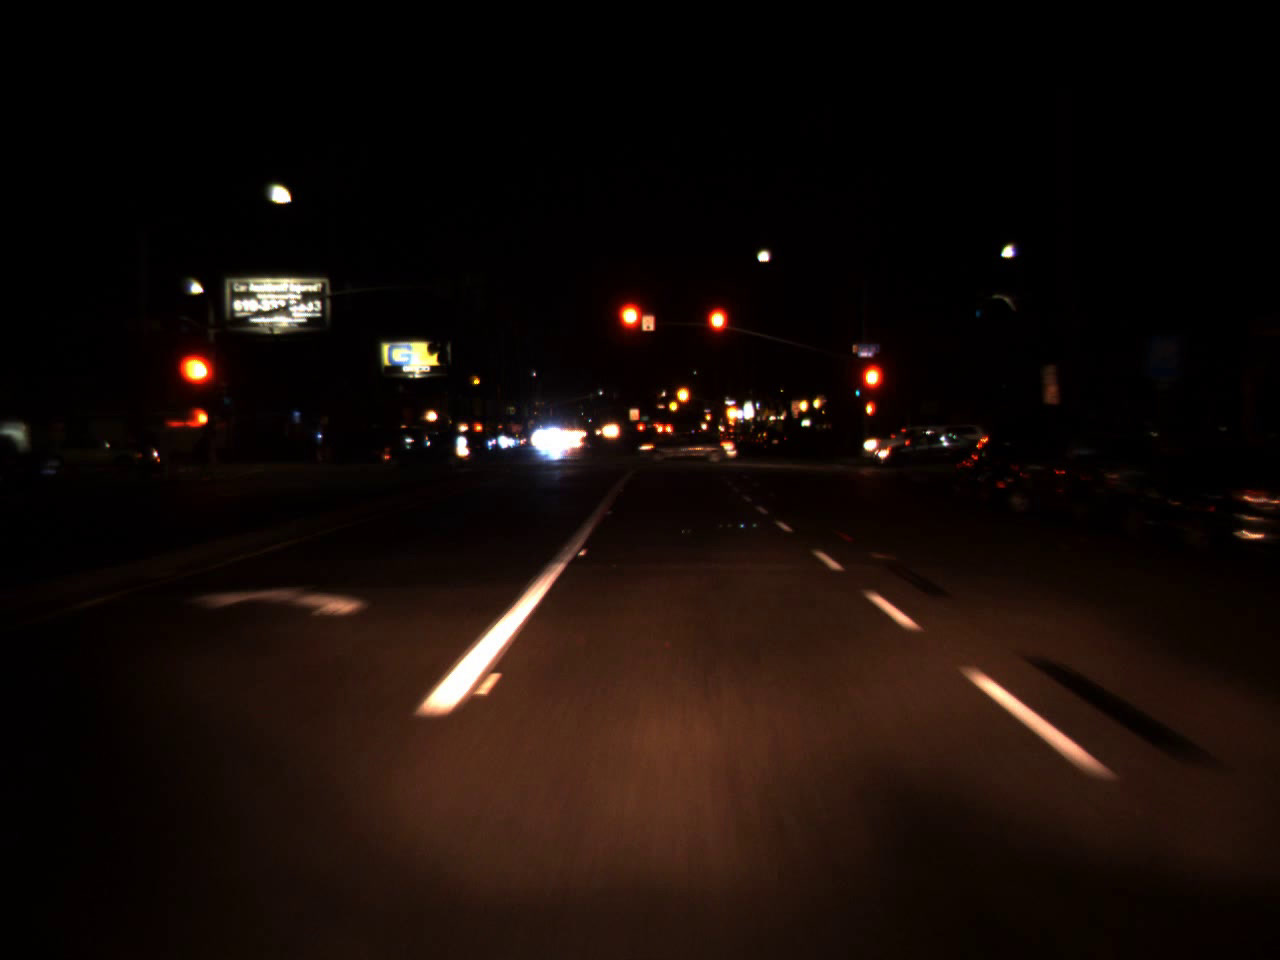stop: (614, 298, 648, 362), (178, 353, 214, 409), (858, 360, 886, 419), (703, 305, 731, 359)
warning: (674, 376, 692, 411), (724, 399, 737, 424), (668, 396, 677, 413), (703, 410, 711, 422)
